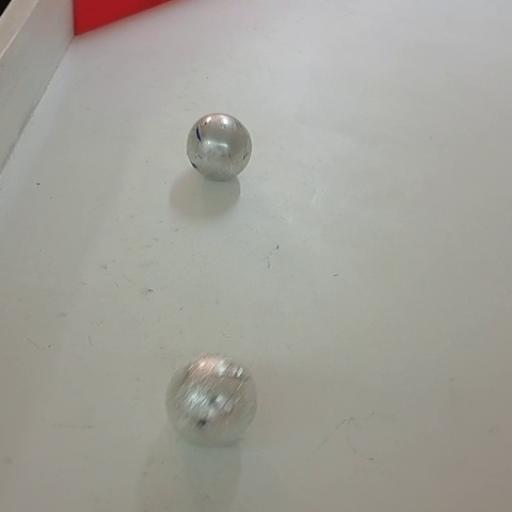alive: (164, 354, 260, 447), (186, 113, 252, 181)
